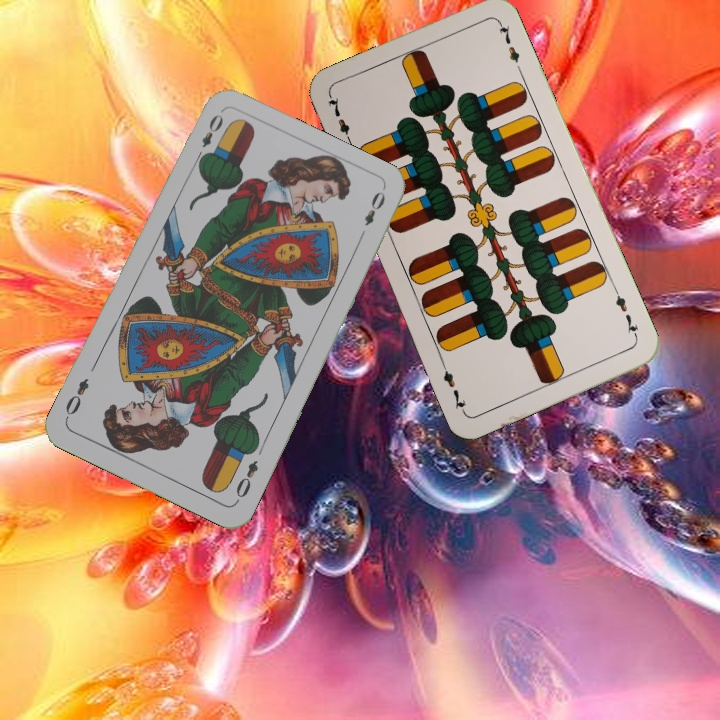E7: (323, 92, 356, 149), (610, 285, 641, 341)
EO: (191, 110, 226, 165), (232, 456, 261, 505)
